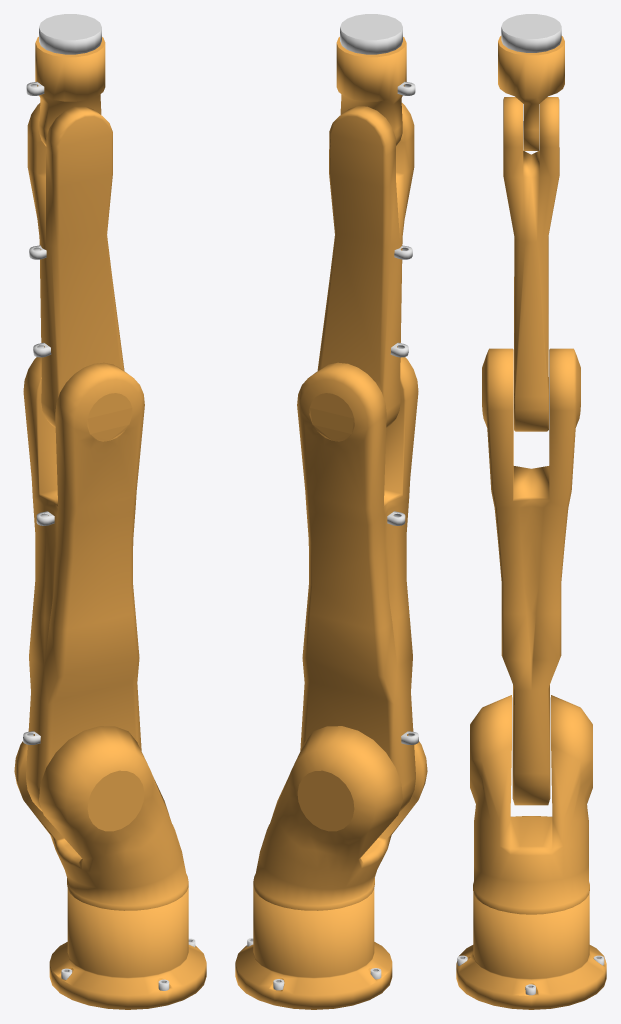
The model's file is kuka.dae.
3 views of the same model, side by side, from view 1: azimuth 30°, elevation 25°; view 2: azimuth 150°, elevation 25°; view 3: azimuth 270°, elevation 25° (orthographic). The views are drawn at different scales.
Parts seen in each view (by area): view 1: kukaLink2, kukaLink1, kukaLink3, kukaBase, kukaLink4, kukaLink5; view 2: kukaLink2, kukaLink1, kukaLink3, kukaBase, kukaLink4, kukaLink5; view 3: kukaLink2, kukaLink1, kukaLink3, kukaBase, kukaLink4, kukaLink5.
Boxes of the visible parts, x1,y1,x2,y2 form: kukaLink2: (23,357,144,811); kukaLink1: (14,726,188,910); kukaLink3: (27,103,124,427); kukaBase: (49,887,206,1009); kukaLink4: (35,37,105,146); kukaLink5: (39,14,101,54); kukaLink2: (297,357,418,811); kukaLink1: (253,726,427,910); kukaLink3: (317,103,414,427); kukaBase: (235,887,392,1009); kukaLink4: (336,37,406,145); kukaLink5: (340,14,402,54); kukaLink2: (482,348,580,805); kukaLink1: (470,695,592,914); kukaLink3: (503,97,559,431); kukaBase: (456,892,606,1009); kukaLink4: (498,36,564,150); kukaLink5: (501,14,561,52).
Bounding box in the file's own units: 2.53 × 2 × 13.52.
